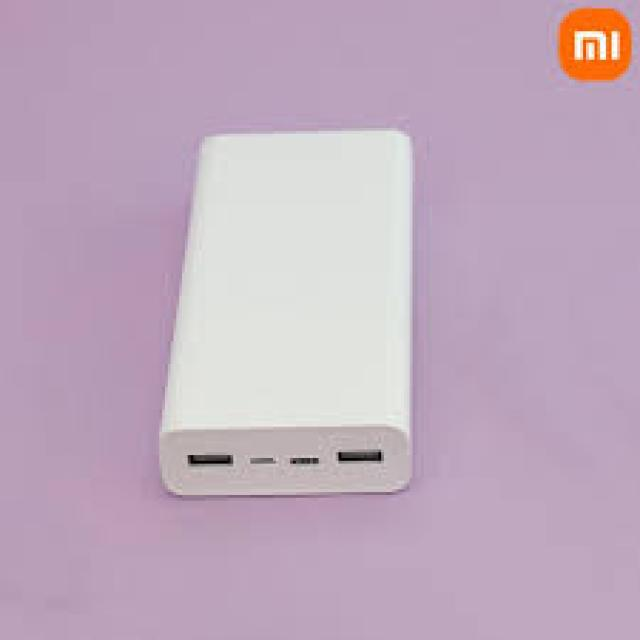portable-charger: (165, 124, 422, 500)
